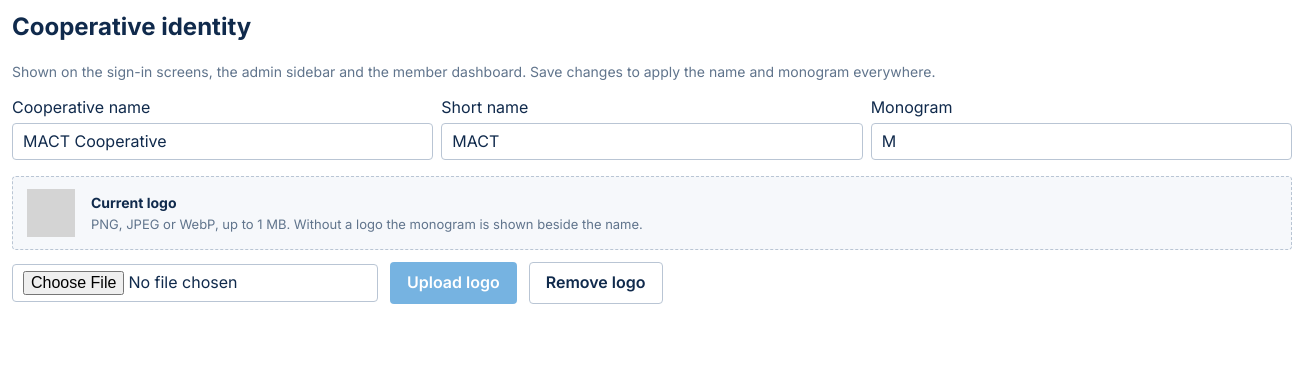
Test: BrandingSection › removes the stored logo
This screenshot has width=1304, height=373.
Click the button "Remove logo": x=596, y=283 529,262 -> 662,304
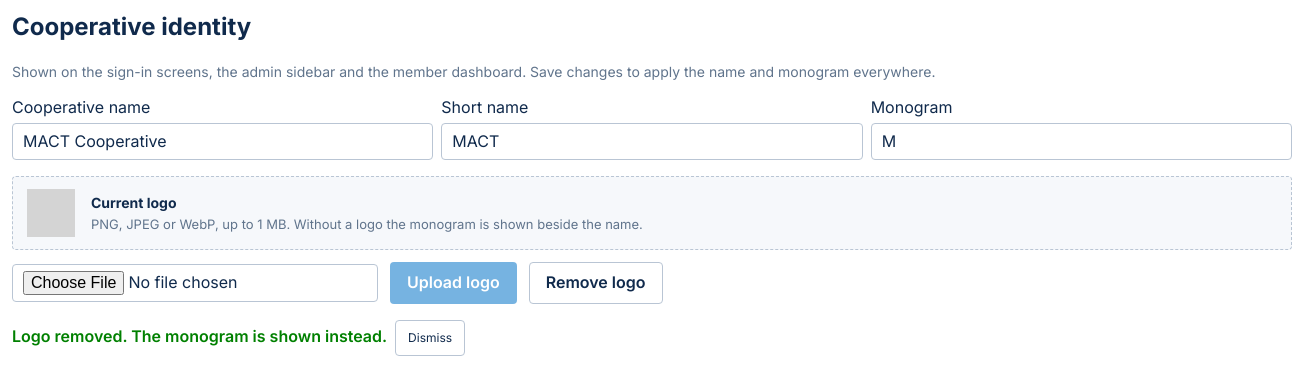
Expected: the message shows "Logo removed", 12,326 -> 387,346
